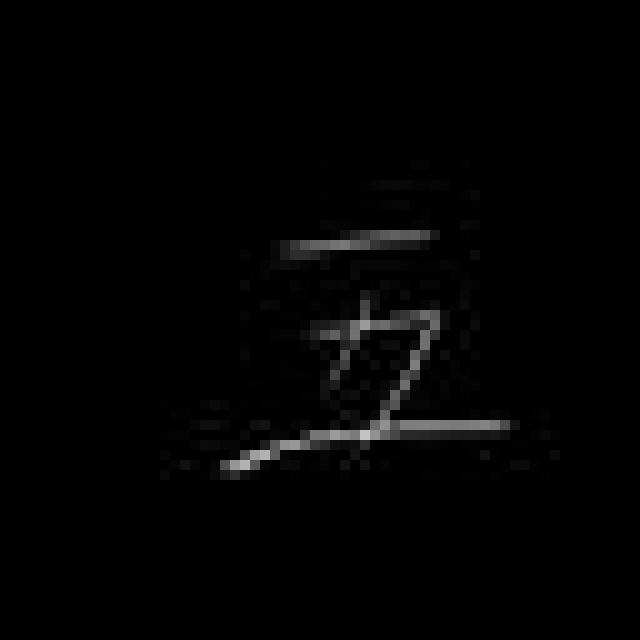5 -five-: (214, 212, 517, 482)
